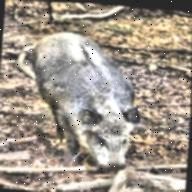boar: (14, 27, 149, 191)
